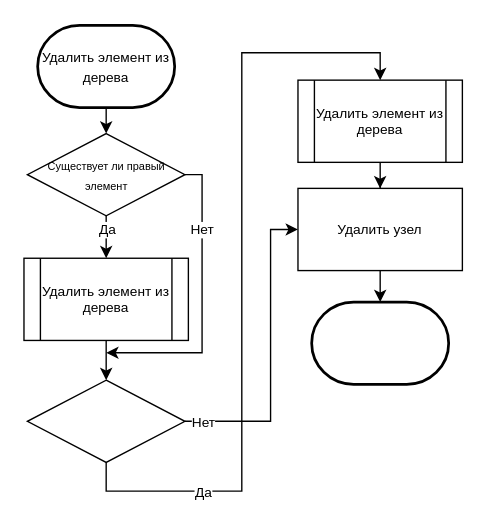
This 486x526 diagram has some shape labels left out. Here are the shapes that lost their labels. From the top down, the centre of each, then its label:
point 379,342: Конец
point 105,420: Существует ли левый элемент
